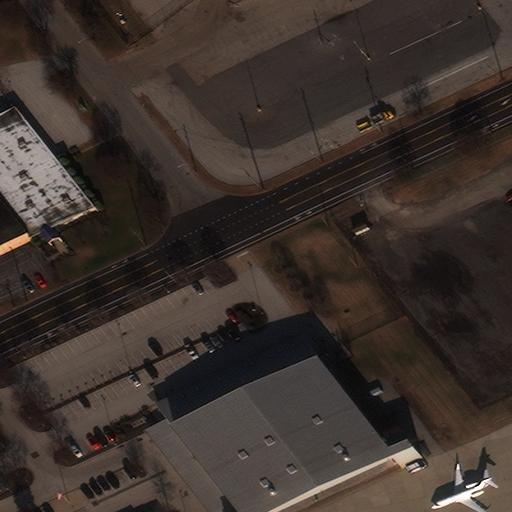Medium Civil Transport: (431, 463, 492, 512)
